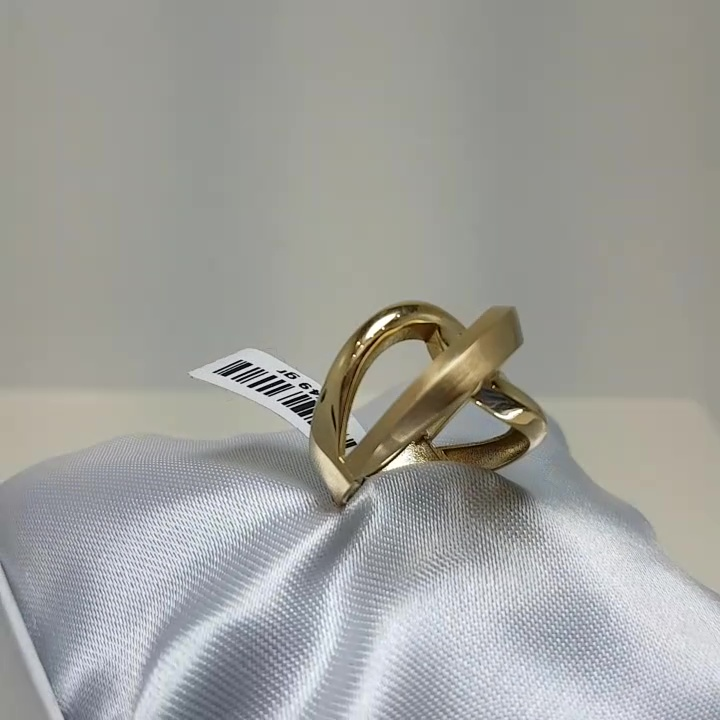Ring 3: (294, 280, 573, 518)
